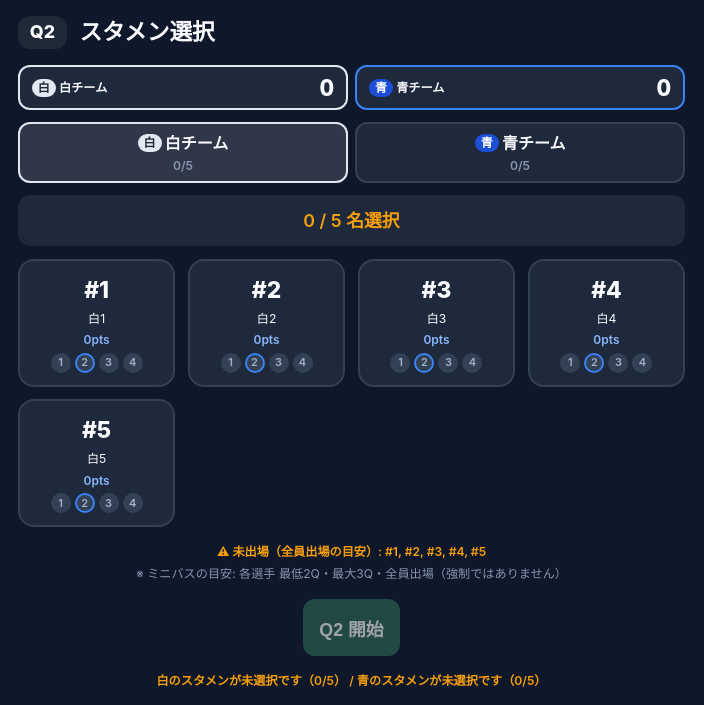
Test: QuarterLineup チームタブ › 片方だけ5名のときは開始できず、未完了チームの色ラベルと人数を表示する
This screenshot has width=704, height=705.
Click the button "#1 白1 0pts 1 2 3 4" at (97, 323), box [18, 258, 176, 387]
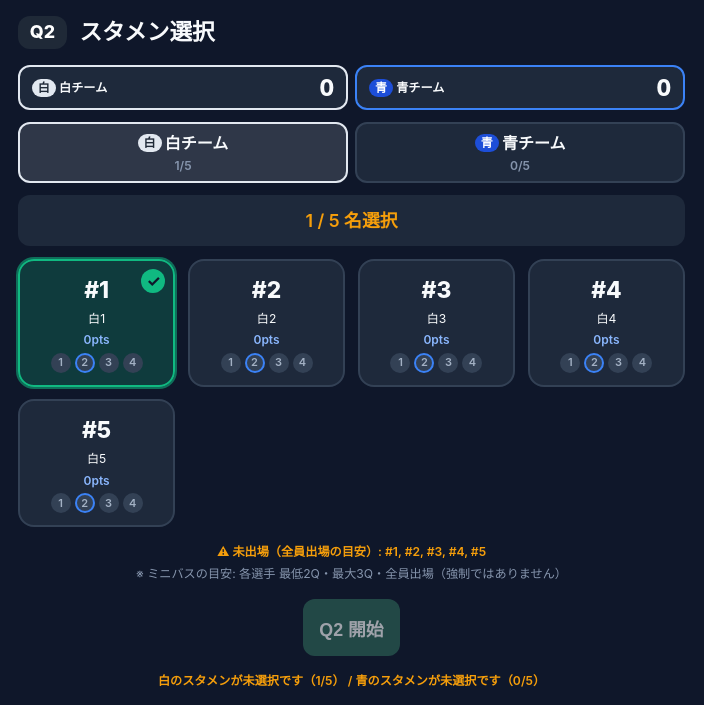
Click the button "#2 白2 0pts 1 2 3 4" at (266, 323), box [188, 258, 345, 387]
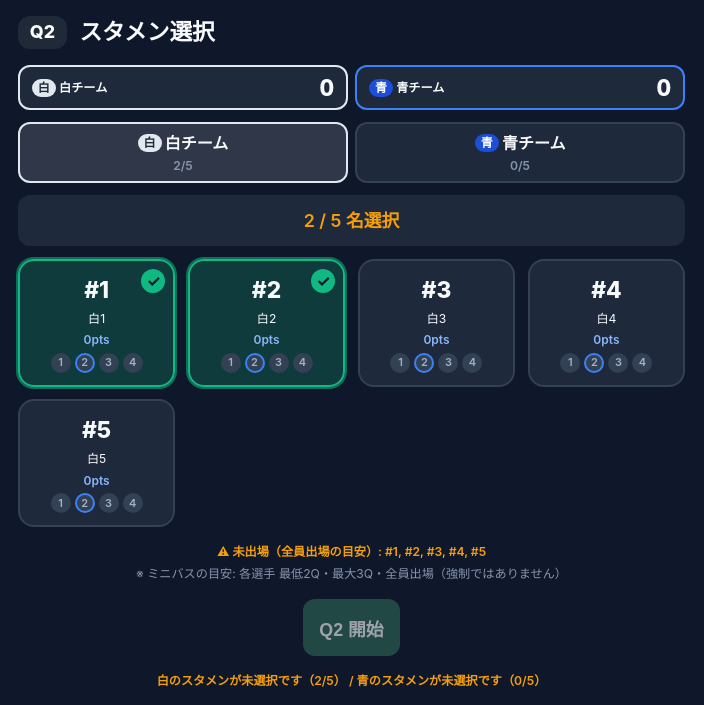
Click the button "#3 白3 0pts 1 2 3 4" at (436, 323), box [358, 258, 515, 387]
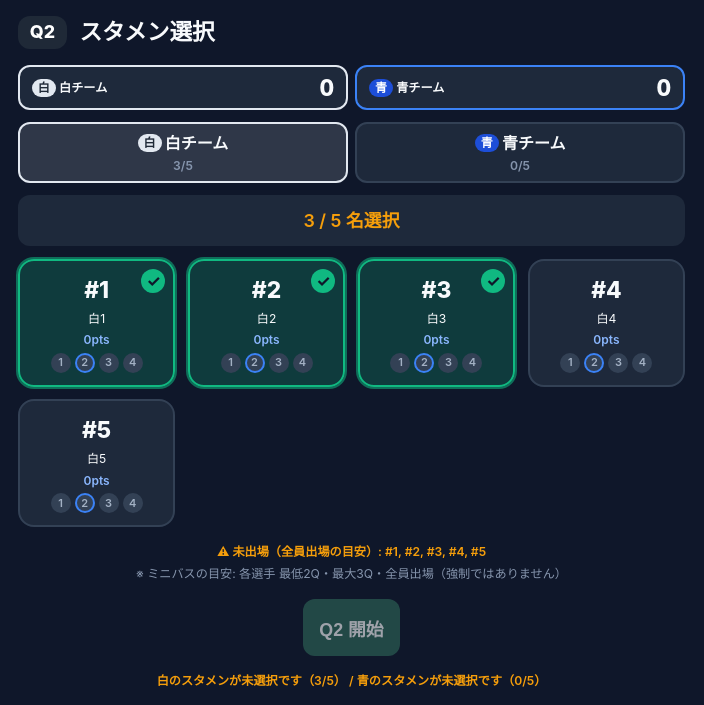
Click the button "#4 白4 0pts 1 2 3 4" at (606, 323), box [528, 258, 685, 387]
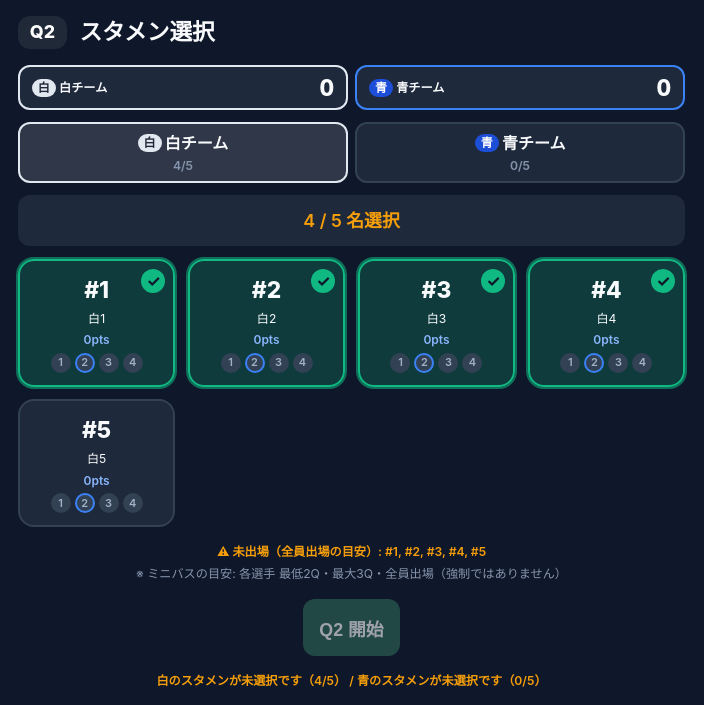
Click the button "#5 白5 0pts 1 2 3 4" at (97, 463), box [18, 399, 176, 527]
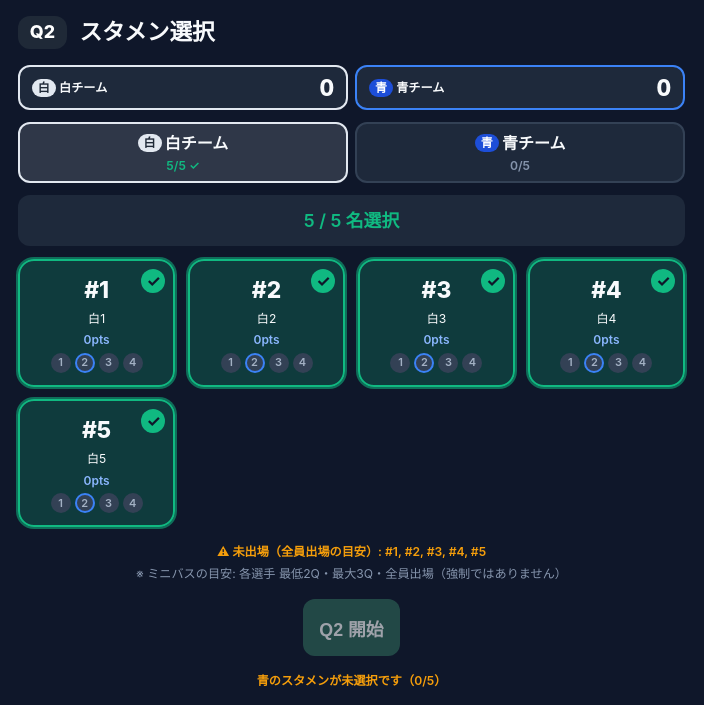
Check: the button "Q2 開始" is disabled, box [303, 599, 400, 656]
Check: the text "白のスタメンが未選択です" is gone
